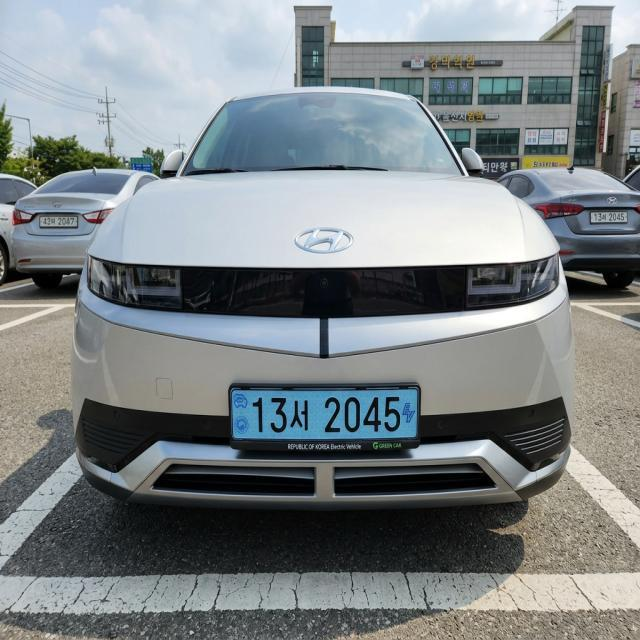car: (220, 362, 429, 468)
carev: (229, 387, 252, 440), (402, 387, 421, 441)
